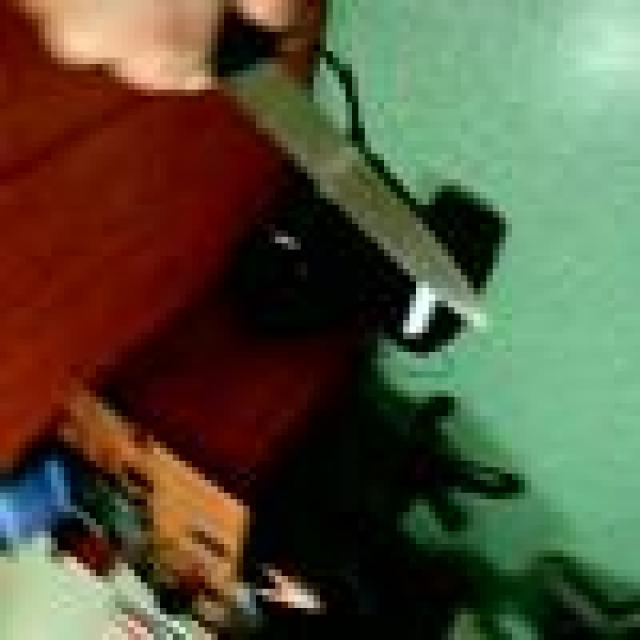knife: (221, 42, 481, 320)
